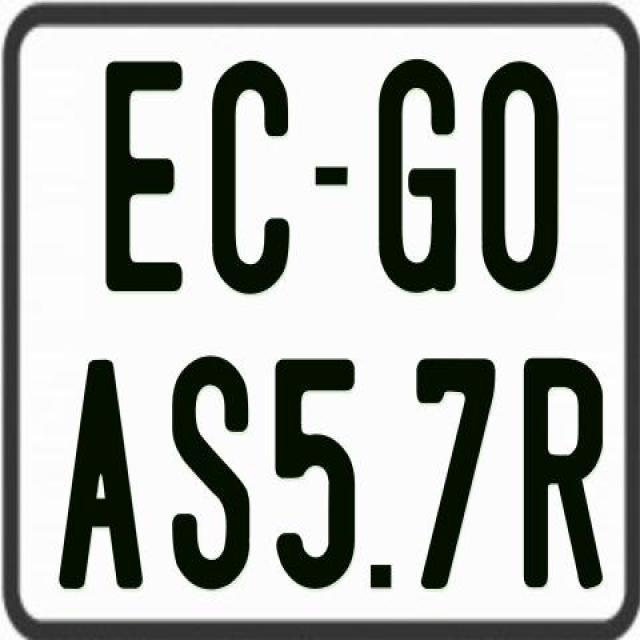0: (478, 59, 562, 294)
5: (272, 358, 360, 598)
7: (416, 358, 503, 592)
A: (56, 356, 140, 590)
C: (208, 61, 292, 294)
E: (106, 60, 190, 298)
G: (376, 59, 460, 299)
S: (170, 356, 248, 588)
